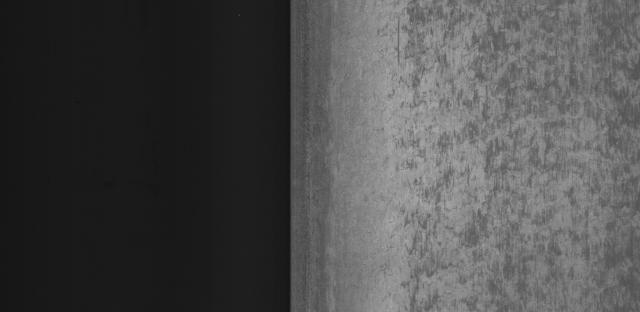silk_spot: (382, 3, 640, 296)
